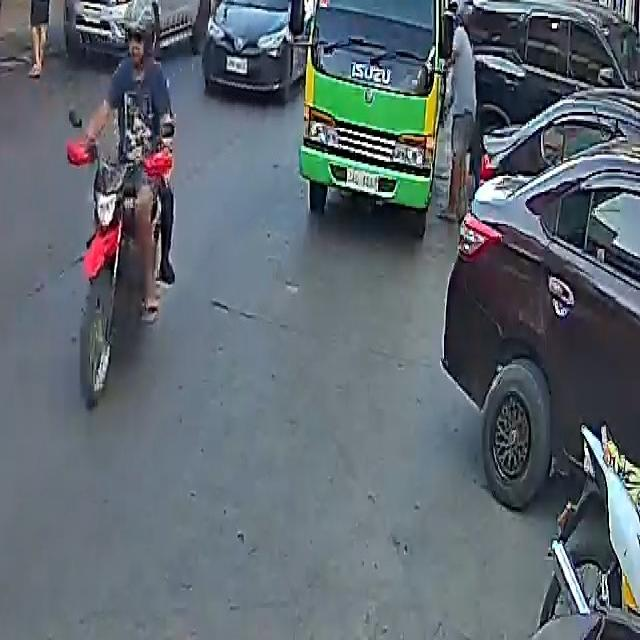car: (442, 91, 640, 524), (464, 0, 640, 158), (199, 0, 307, 94), (69, 0, 209, 48)
